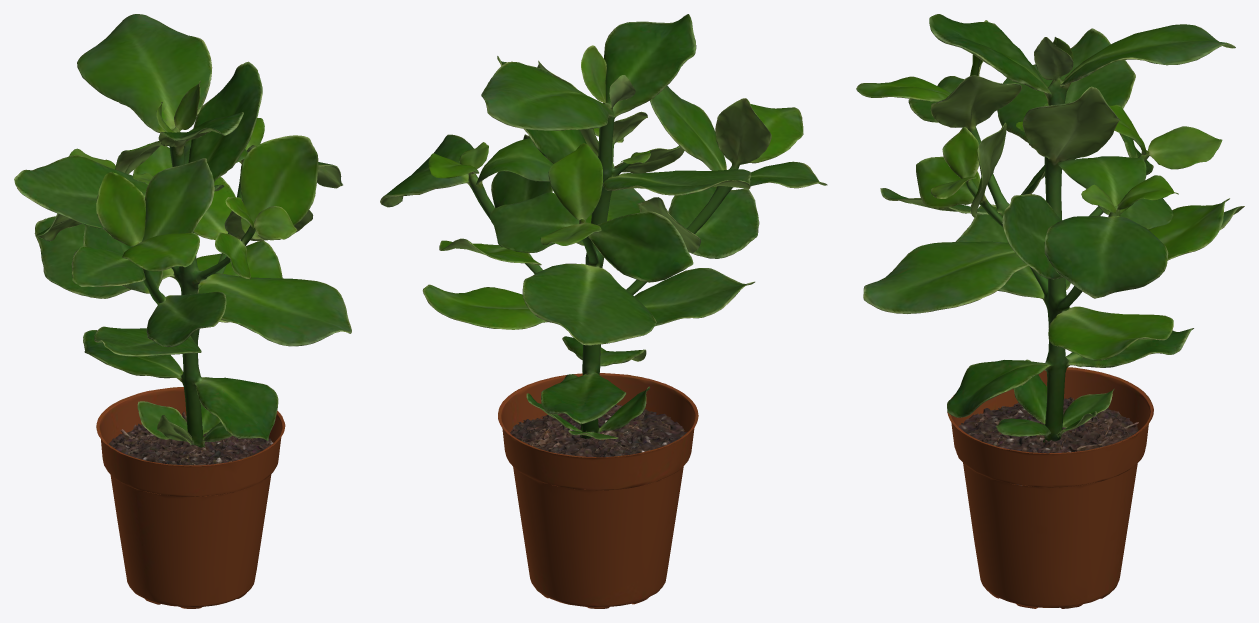
File: i_kea_clusia_planta.glb
3 views of the same model, side by side, from view 1: azimuth 30°, elevation 25°; view 2: azimuth 150°, elevation 25°; view 3: azimuth 270°, elevation 25° (orthographic). The views are drawn at different scales.
Parts seen in each view (by area): view 1: 70234562-CLUSIA002_1; view 2: 70234562-CLUSIA002_1; view 3: 70234562-CLUSIA002_1.
Boxes of the visible parts, left/top/right/bottom form: 70234562-CLUSIA002_1: left=14, top=14, right=351, bottom=608; 70234562-CLUSIA002_1: left=380, top=14, right=827, bottom=608; 70234562-CLUSIA002_1: left=856, top=14, right=1244, bottom=608.
Bounding box in the file's own units: 0.2425 × 0.3508 × 0.2238.
1 material, 1 textured.
